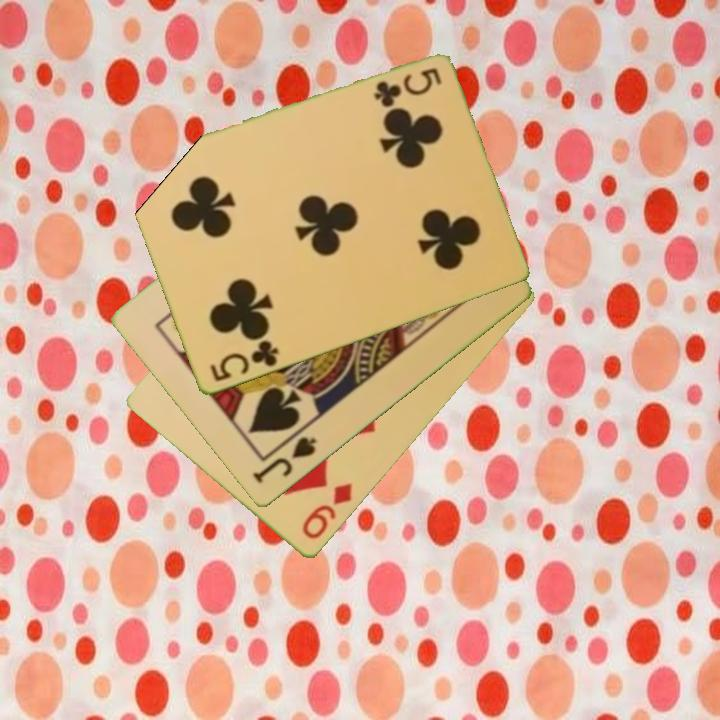5c: (206, 337, 282, 386), (370, 65, 445, 110)
9d: (298, 479, 356, 543)
Js: (249, 433, 320, 488)
